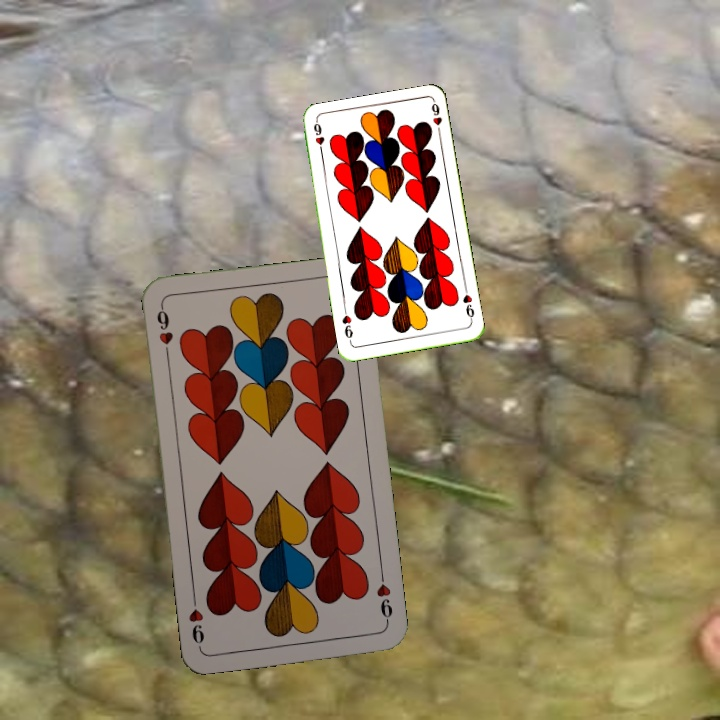H9: (152, 301, 176, 360), (372, 568, 396, 627), (459, 284, 477, 325), (309, 118, 326, 159)
